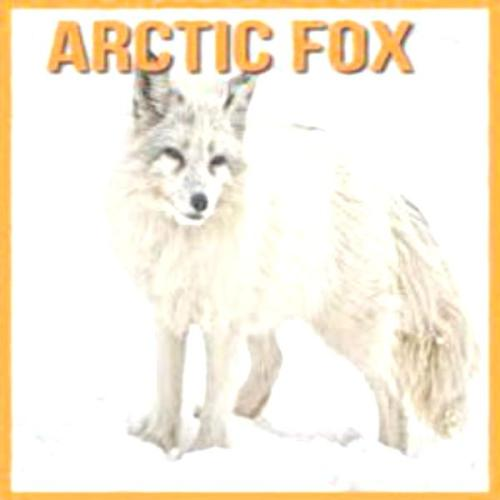arctic_fox-endangered: (124, 72, 470, 447)
